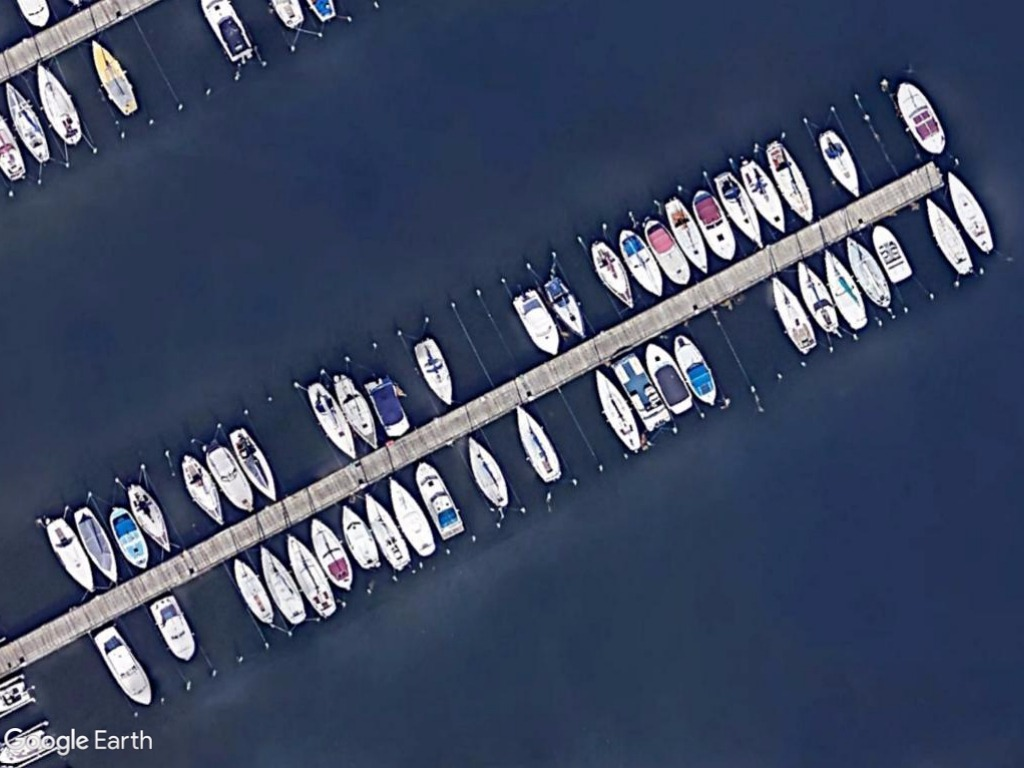boat: (280, 526, 343, 623), (587, 363, 650, 459), (92, 621, 160, 709), (888, 73, 953, 164), (761, 134, 820, 231), (763, 268, 824, 360), (302, 374, 363, 465), (29, 57, 89, 148), (917, 192, 978, 279), (942, 168, 999, 261), (509, 397, 566, 488), (88, 35, 146, 124), (458, 425, 516, 514), (711, 164, 770, 251), (737, 152, 794, 242), (254, 538, 310, 628), (43, 513, 101, 599), (661, 193, 717, 282), (200, 438, 262, 518), (360, 485, 414, 576), (789, 253, 846, 339), (611, 222, 671, 303), (385, 471, 439, 561), (329, 367, 384, 455), (412, 458, 468, 542), (123, 479, 180, 561), (71, 501, 125, 587), (820, 245, 872, 334), (637, 211, 696, 289), (224, 424, 280, 506), (303, 512, 357, 596), (508, 283, 566, 361), (668, 328, 722, 411), (0, 74, 49, 165), (688, 184, 743, 265), (812, 125, 866, 206), (584, 231, 638, 311), (408, 333, 464, 410), (174, 450, 229, 528), (841, 233, 894, 313), (147, 590, 202, 667), (645, 338, 697, 419), (227, 551, 280, 628), (335, 500, 385, 577), (540, 271, 592, 343), (104, 501, 152, 573), (868, 219, 917, 288)
